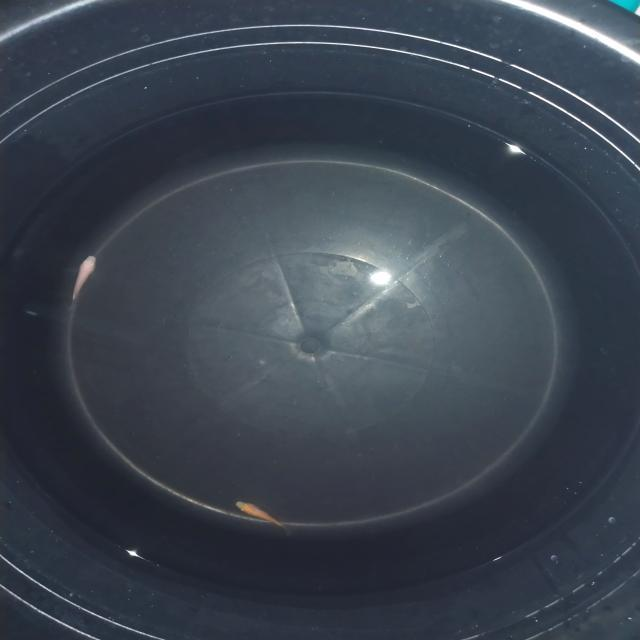nila: (231, 496, 294, 540), (65, 249, 104, 312)
